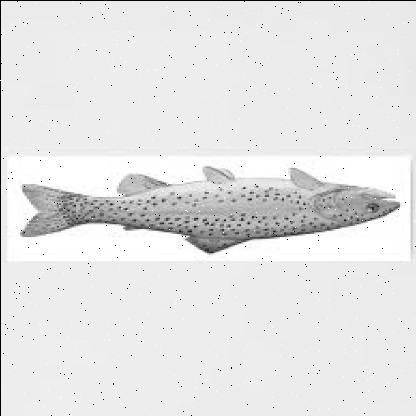fish: (20, 166, 402, 254)
